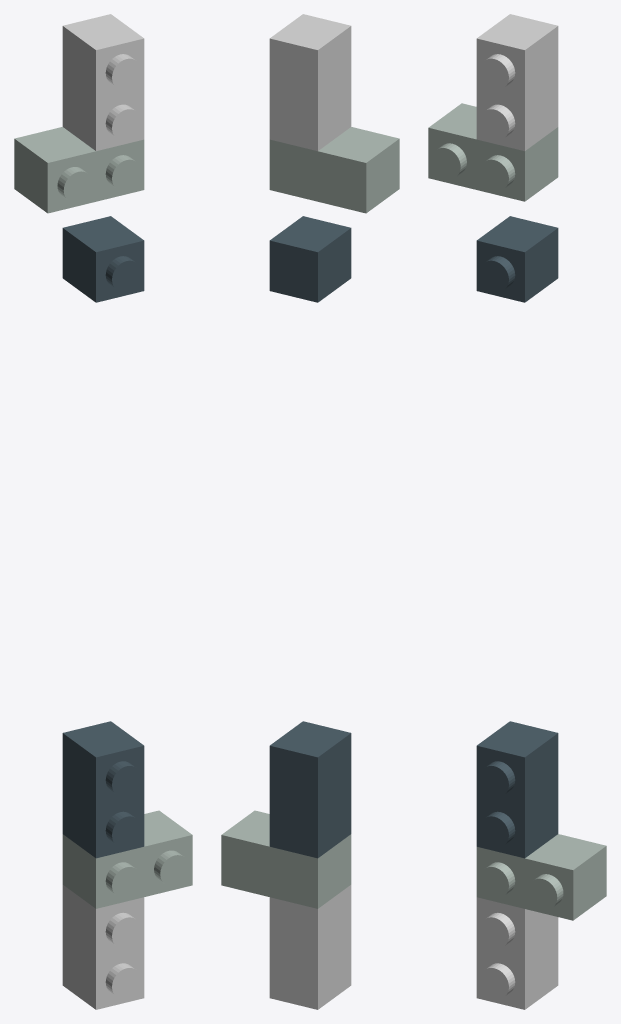
File: current.glb
The picture shows the model from 3 angles, left to right: view 1: azimuth 30°, elevation 25°; view 2: azimuth 150°, elevation 25°; view 3: azimuth 330°, elevation 25°; orthographic projection.
Visible parts, largest first — view 1: world; view 2: world; view 3: world.
Boxes of the visible parts, <box> form: world: <box>14,14,192,1009</box>; world: <box>221,14,399,1009</box>; world: <box>428,14,606,1009</box>.
Size of the model in its own units: 24 by 152 by 11.4.
